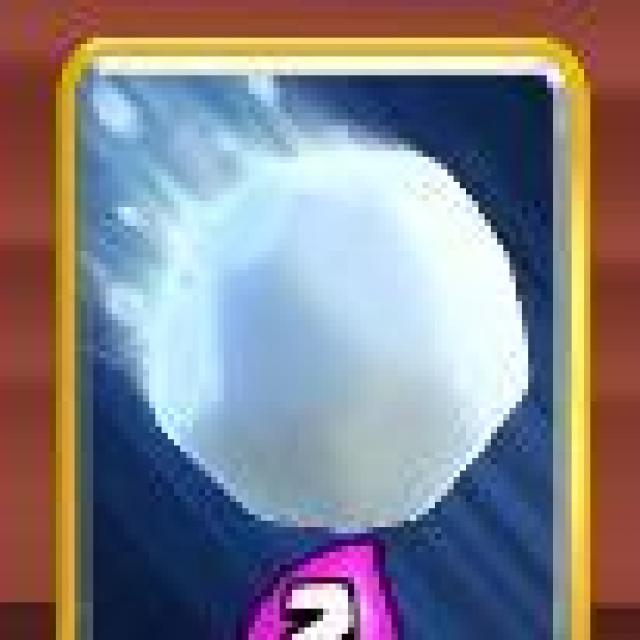Snowball: (53, 37, 591, 640)
